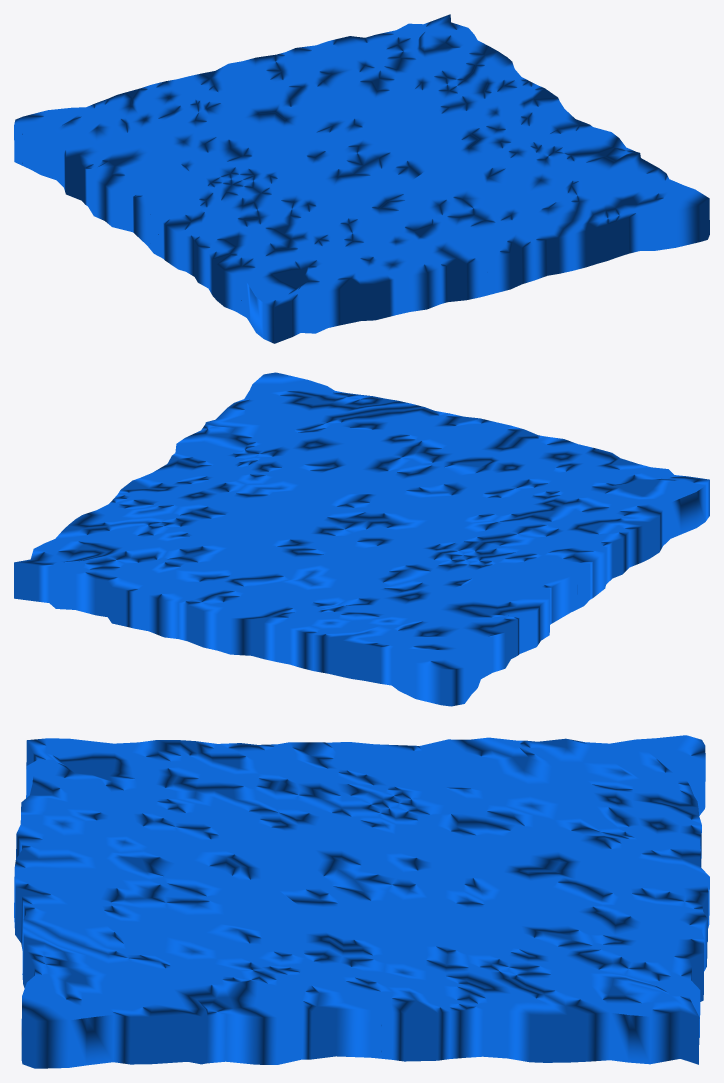
The model's file is water.glb.
3 views of the same model, one above another, from view 1: azimuth 30°, elevation 25°; view 2: azimuth 150°, elevation 25°; view 3: azimuth 270°, elevation 25° (orthographic). The views are drawn at different scales.
Visible parts, largest first — view 1: waterKeyShapes; view 2: waterKeyShapes; view 3: waterKeyShapes.
Part boxes in pixels (x1,y1,x2,y2): waterKeyShapes: (14,14,709,343); waterKeyShapes: (14,372,709,706); waterKeyShapes: (14,735,709,1068).
Size of the model in its own units: 2.37 by 0.201 by 2.43.
